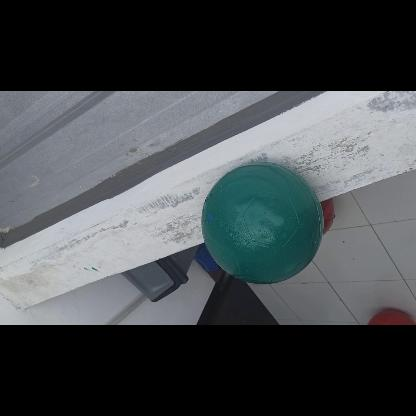green_ball: (198, 162, 322, 284)
